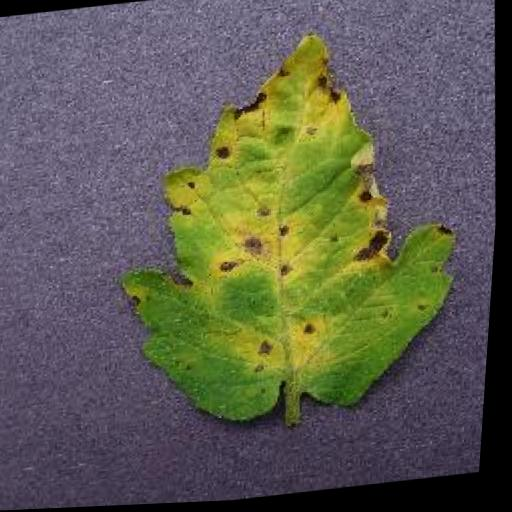Septoria: (100, 18, 484, 441)
